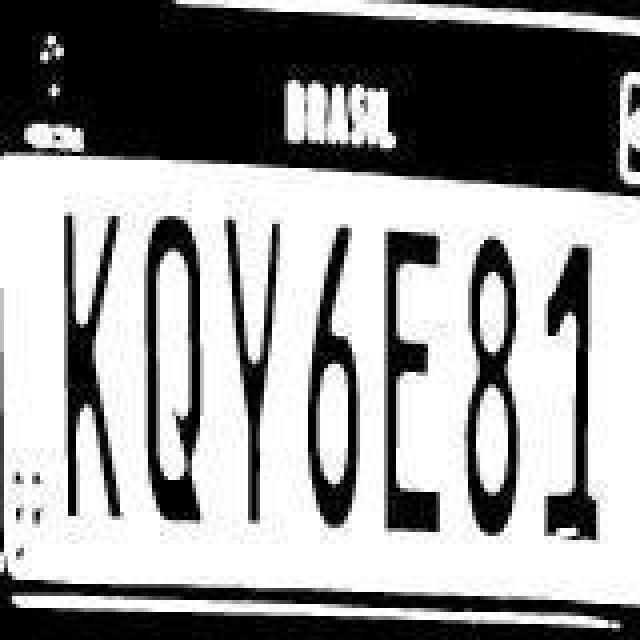1: (542, 240, 610, 552)
6: (298, 218, 366, 534)
8: (464, 234, 520, 542)
E: (380, 216, 444, 536)
K: (50, 210, 126, 526)
Q: (138, 210, 206, 526)
Y: (218, 210, 286, 526)
